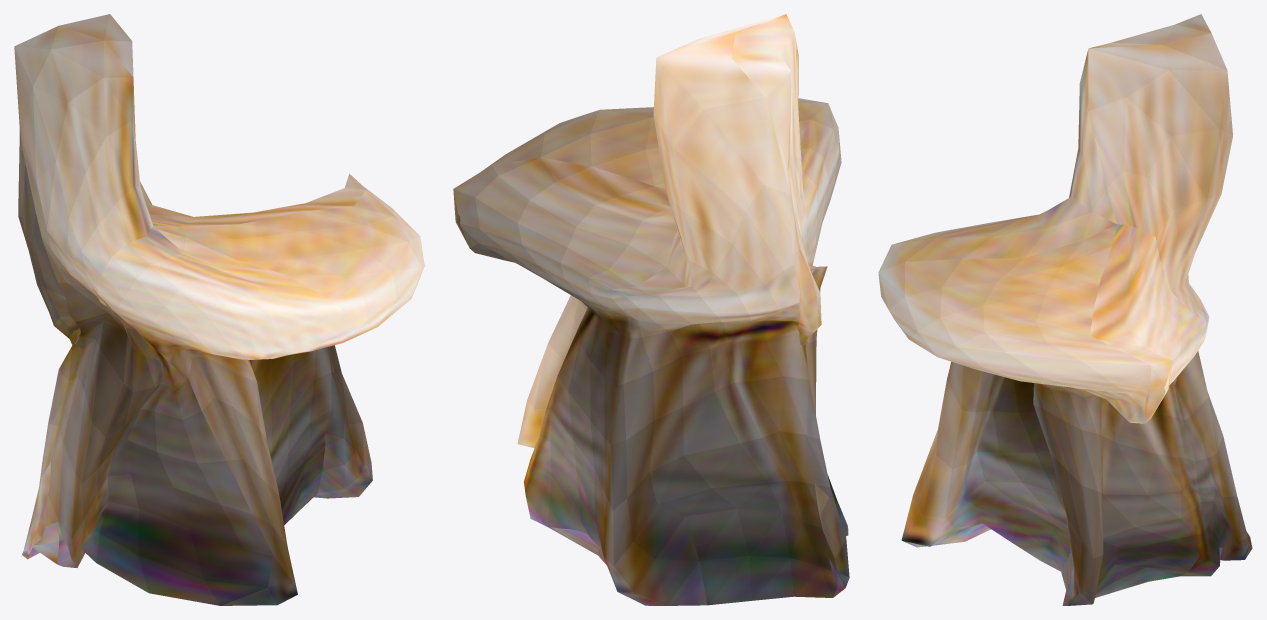
3 views of the same model, side by side, from view 1: azimuth 30°, elevation 25°; view 2: azimuth 150°, elevation 25°; view 3: azimuth 270°, elevation 25° (orthographic). The views are drawn at different scales.
Parts seen in each view (by area): view 1: pMesh1; view 2: pMesh1; view 3: pMesh1.
Boxes of the visible parts, x1,y1,x2,y2 form: pMesh1: (14,14,424,605); pMesh1: (453,14,849,605); pMesh1: (878,14,1252,605).
Bounding box in the file's own units: 1.99 × 2.75 × 1.9.
1 material, 1 textured.
